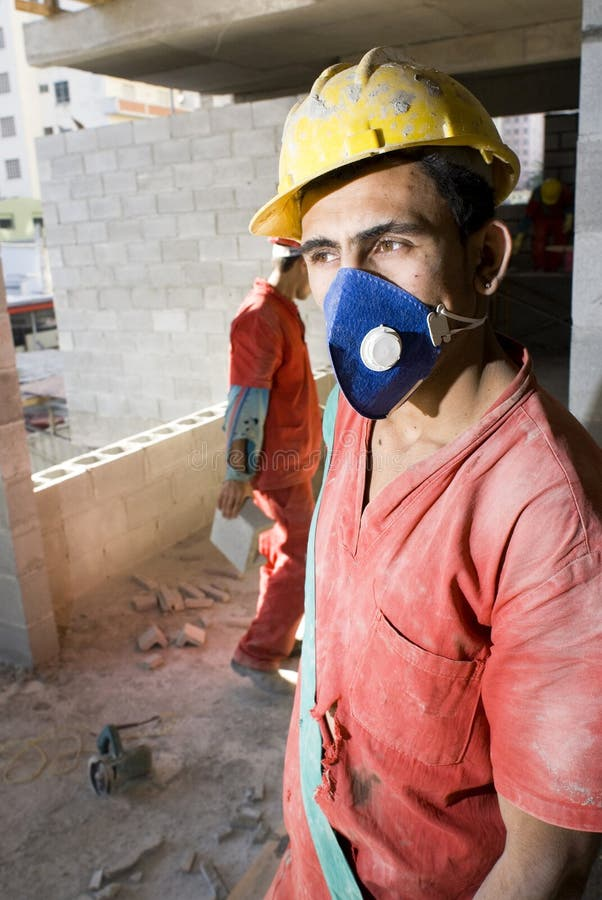Helmet: (245, 45, 525, 255)
Mask: (316, 266, 468, 432)
Safety_Jacket: (272, 373, 602, 900), (221, 270, 338, 682)
